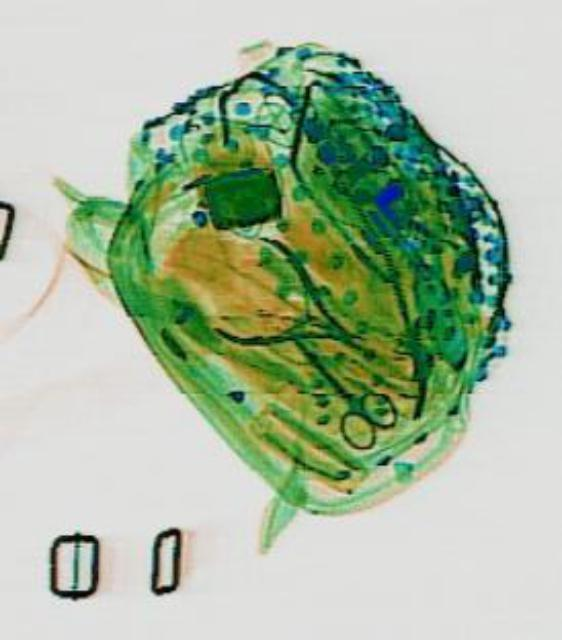Pliers: (209, 228, 383, 390)
Scissors: (267, 314, 403, 458)
